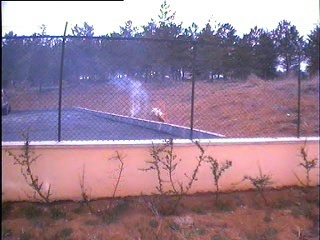smoke: (107, 68, 168, 120)
